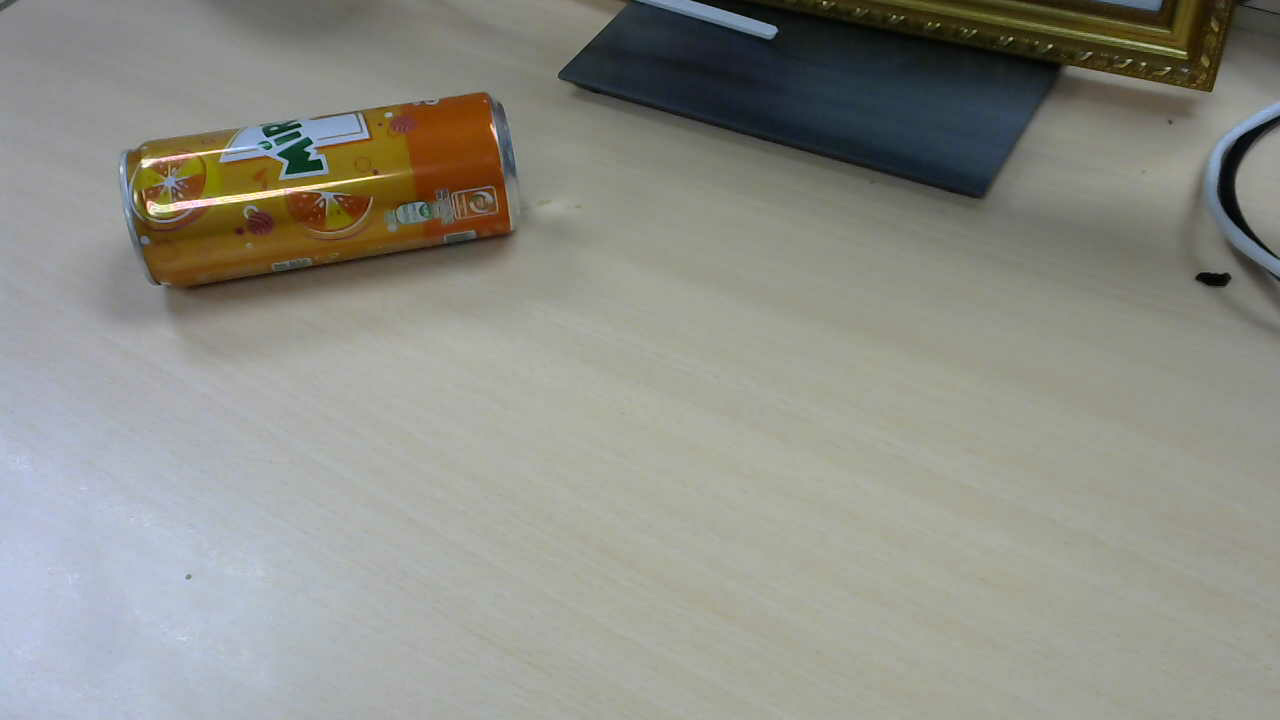Mirinda: (120, 97, 526, 291)
